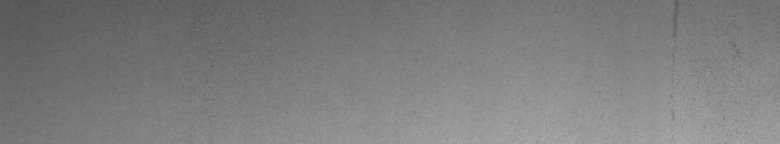ib: (672, 4, 740, 120)
